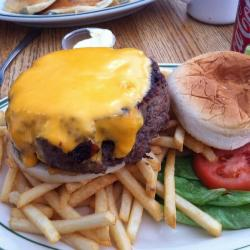burger: (7, 40, 250, 182)
fries: (3, 154, 163, 250)
salad: (158, 155, 250, 236)
